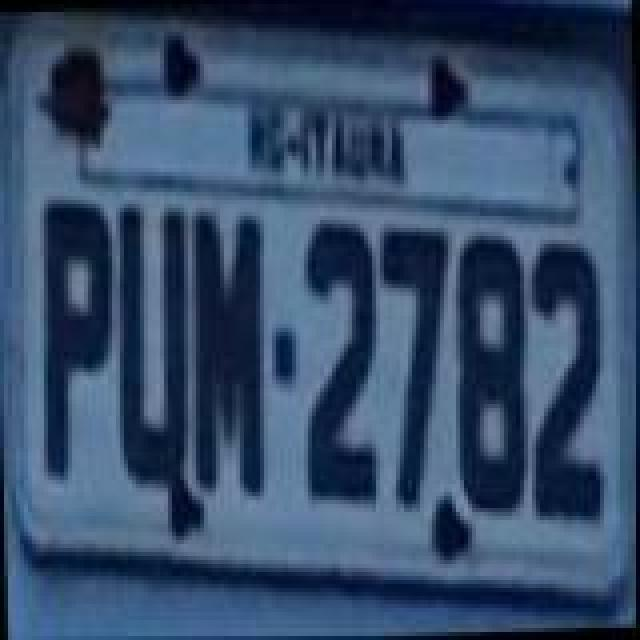2: (296, 210, 384, 514), (524, 232, 612, 536)
7: (374, 224, 458, 516)
8: (444, 230, 532, 522)
M: (184, 202, 272, 506)
P: (34, 194, 122, 486)
U: (108, 194, 192, 490)
